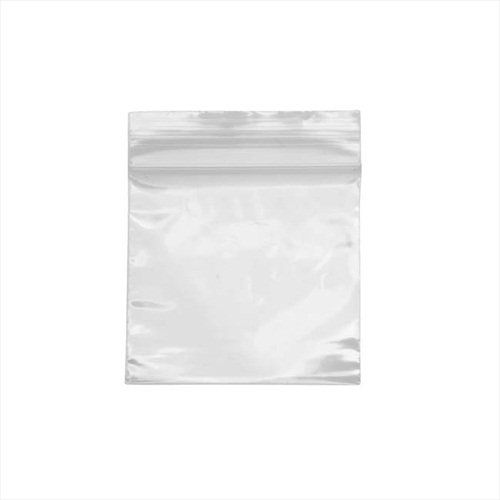Plastic: (125, 108, 364, 386)
